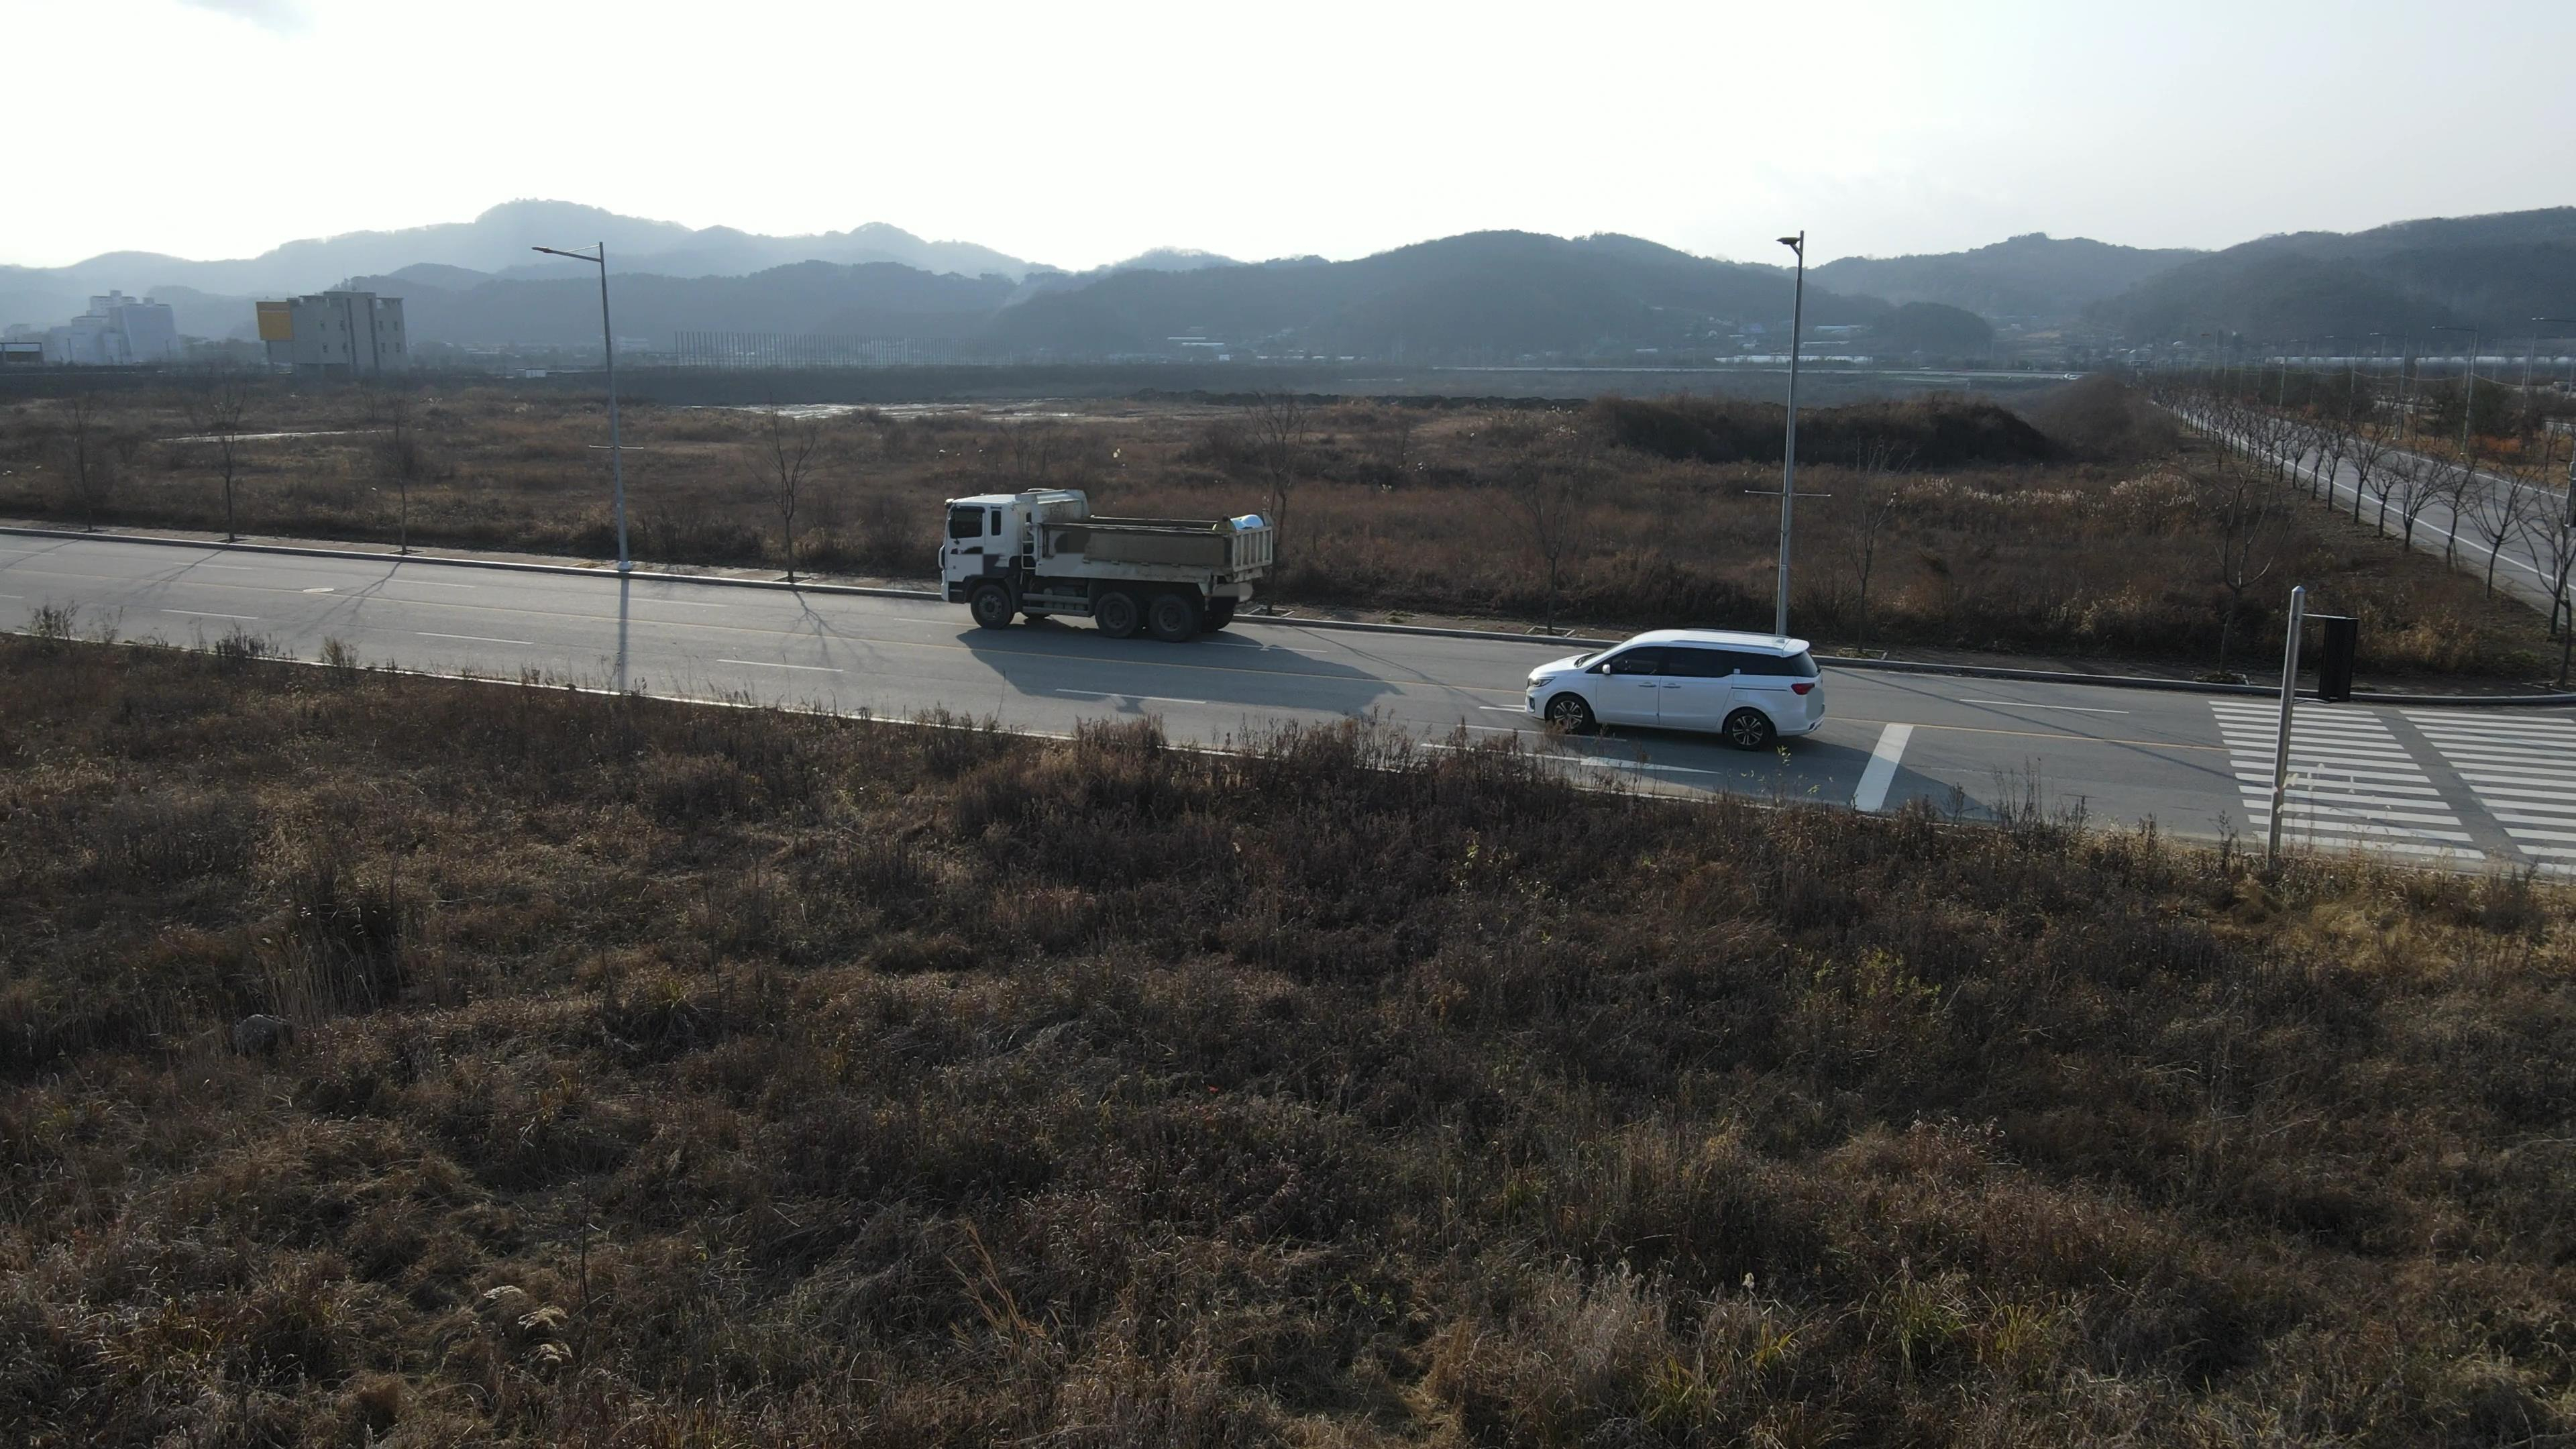불법차량: (938, 487, 1274, 644)
